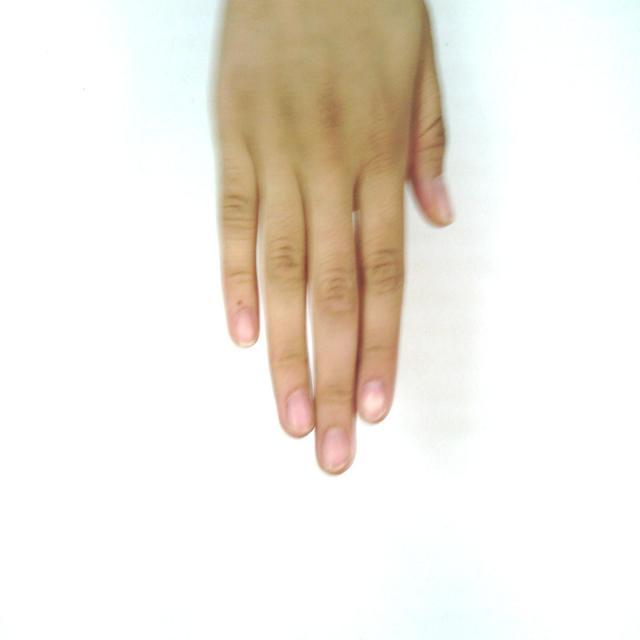Fingernail: (323, 428, 349, 471), (287, 391, 312, 433), (361, 381, 385, 421), (431, 177, 452, 222), (235, 310, 256, 346)
